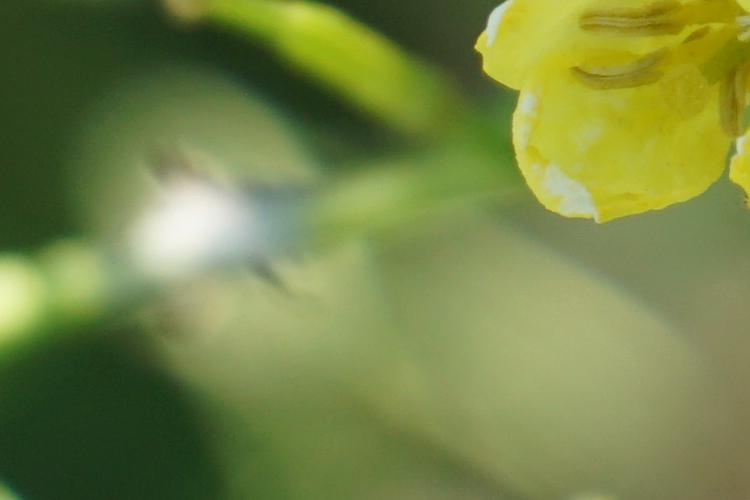pod: (172, 1, 455, 149)
yellow: (471, 3, 750, 246)
